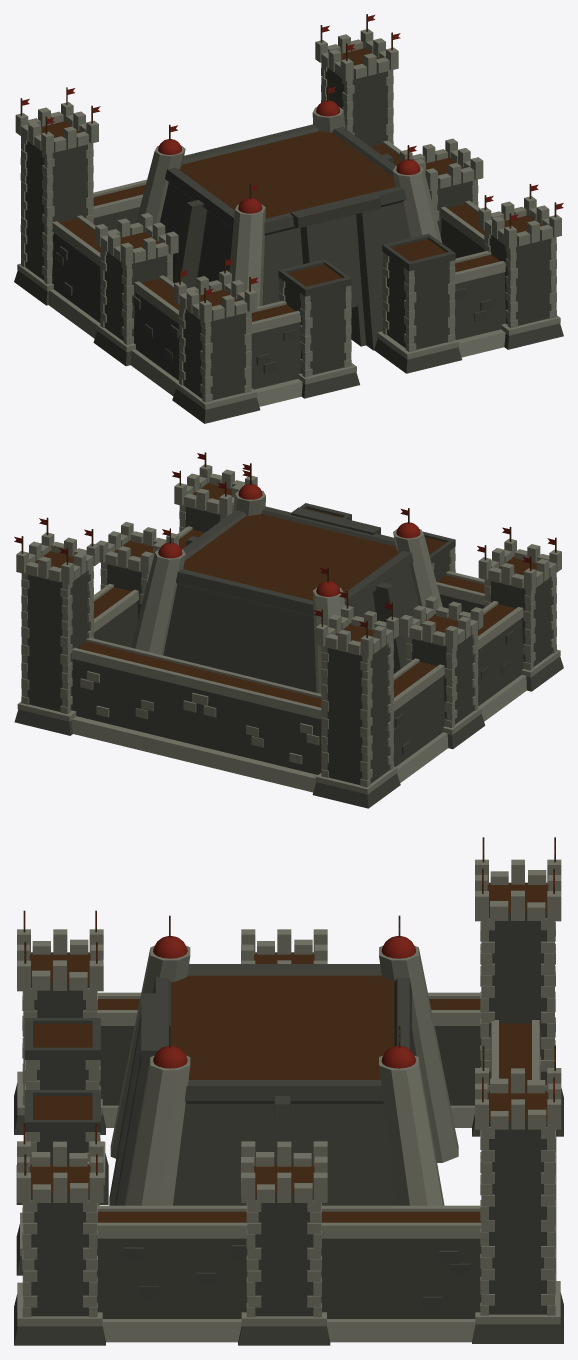
The model's file is Wonder_SecondAge_Level2.obj.
The picture shows the model from 3 angles, top to bottom: view 1: azimuth 30°, elevation 25°; view 2: azimuth 150°, elevation 25°; view 3: azimuth 270°, elevation 25°; orthographic projection. The views are drawn at different scales.
Visible parts, largest first — view 1: Wonder_SecondAge_Level2_Cube.002; view 2: Wonder_SecondAge_Level2_Cube.002; view 3: Wonder_SecondAge_Level2_Cube.002.
Part boxes in pixels (bbox=[...]): Wonder_SecondAge_Level2_Cube.002: bbox=[14, 14, 563, 423]; Wonder_SecondAge_Level2_Cube.002: bbox=[14, 452, 563, 808]; Wonder_SecondAge_Level2_Cube.002: bbox=[14, 837, 563, 1345].
Bounding box in the file's own units: 2.13 × 1.08 × 1.96.
